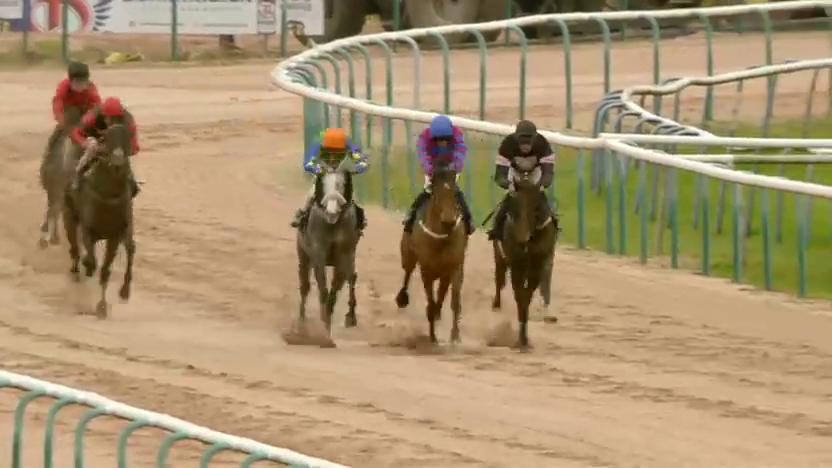jockey: (295, 130, 366, 239), (492, 120, 558, 230), (412, 114, 466, 241), (76, 96, 139, 189), (51, 65, 103, 134)
